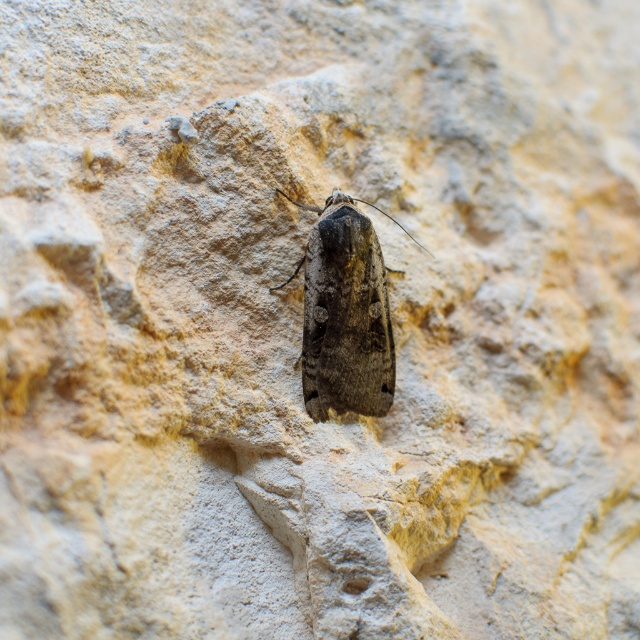Moths and butterflies: (266, 190, 432, 423)
